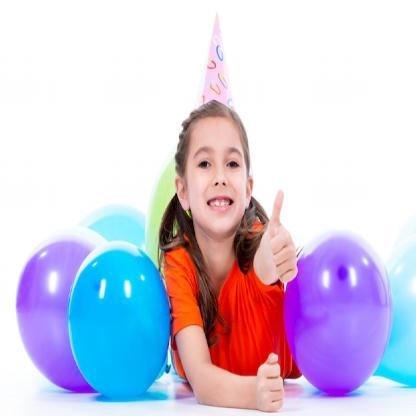thumb_up: (258, 183, 300, 290)
